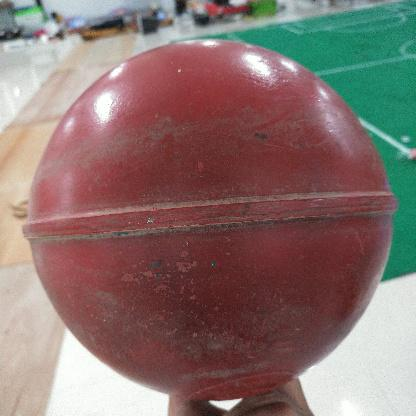red_buoy: (24, 35, 392, 400)
